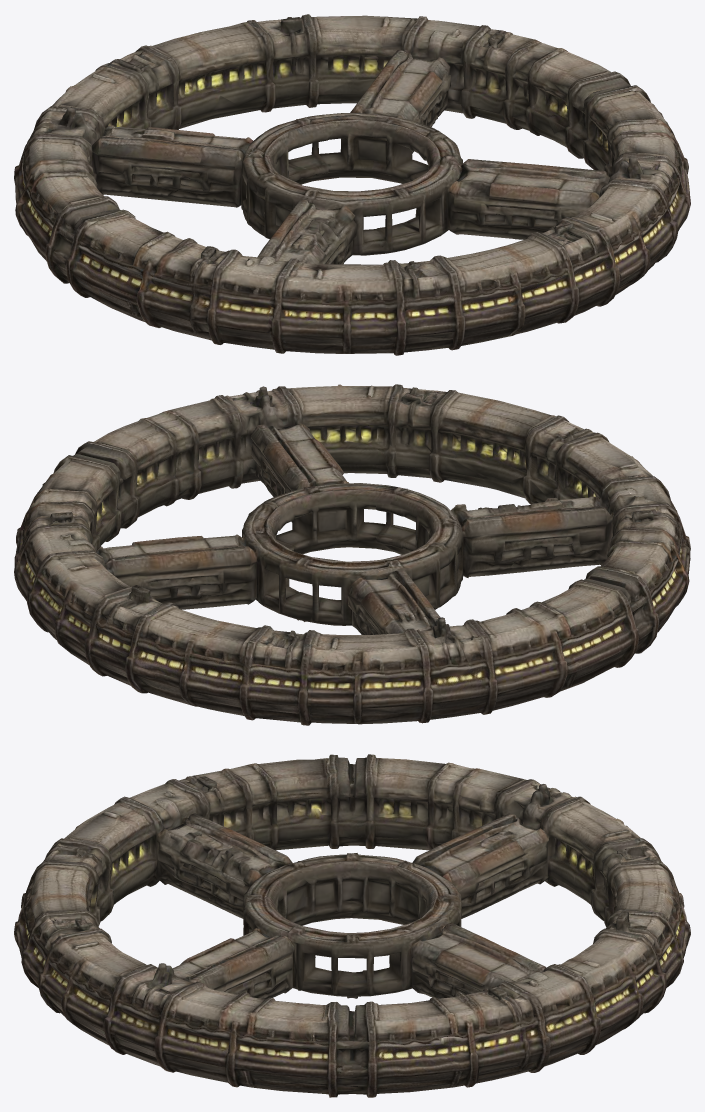
Rendered from station_ring.glb.
The picture shows the model from 3 angles, top to bottom: view 1: azimuth 30°, elevation 25°; view 2: azimuth 150°, elevation 25°; view 3: azimuth 270°, elevation 25°; orthographic projection.
Visible parts, largest first — view 1: tripo_node_730f4ff8-59cc-4a07-91ba-9ffaaeec3c7f; view 2: tripo_node_730f4ff8-59cc-4a07-91ba-9ffaaeec3c7f; view 3: tripo_node_730f4ff8-59cc-4a07-91ba-9ffaaeec3c7f.
Boxes of the visible parts, <box> form: tripo_node_730f4ff8-59cc-4a07-91ba-9ffaaeec3c7f: <box>14,14,690,355</box>; tripo_node_730f4ff8-59cc-4a07-91ba-9ffaaeec3c7f: <box>14,384,690,725</box>; tripo_node_730f4ff8-59cc-4a07-91ba-9ffaaeec3c7f: <box>14,754,690,1097</box>.
Size of the model in its own units: 0.9994 by 0.1449 by 0.9996.
Materials: 1 (1 with a texture image).
